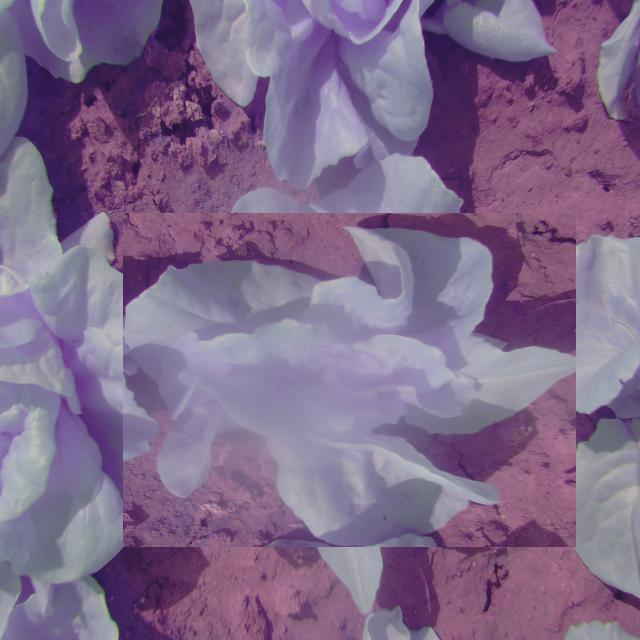vege: (153, 184, 546, 577)
